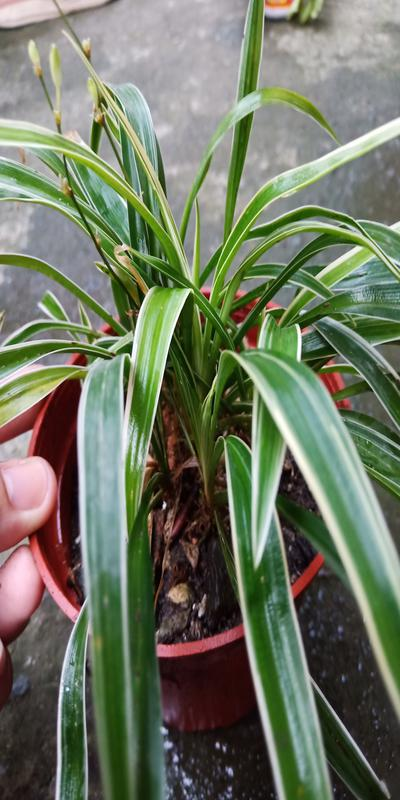Yellow and green leaf: (55, 137, 382, 630)
